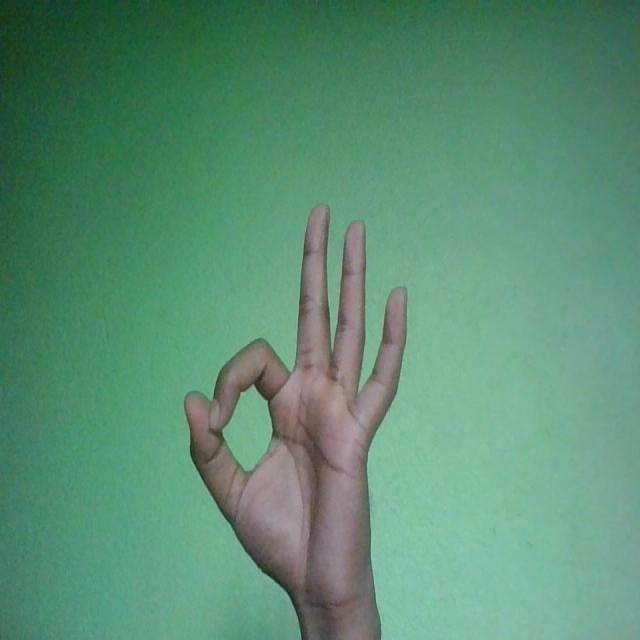Rock On: (184, 202, 408, 614)
